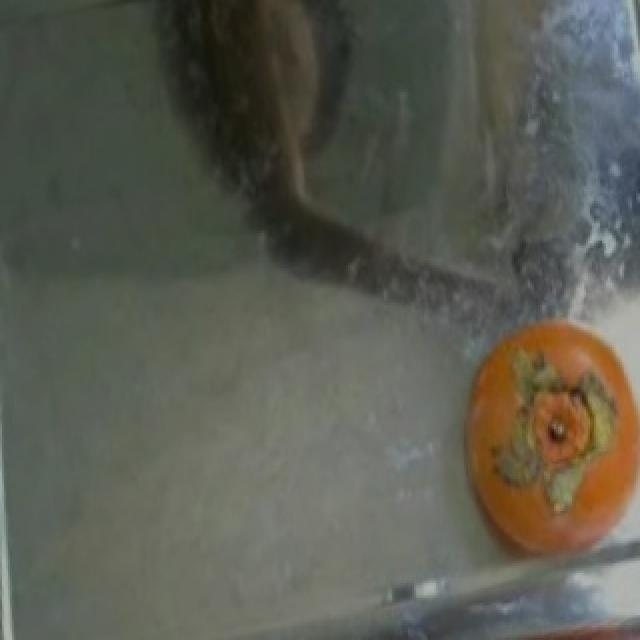Fruit: (438, 298, 636, 595)
